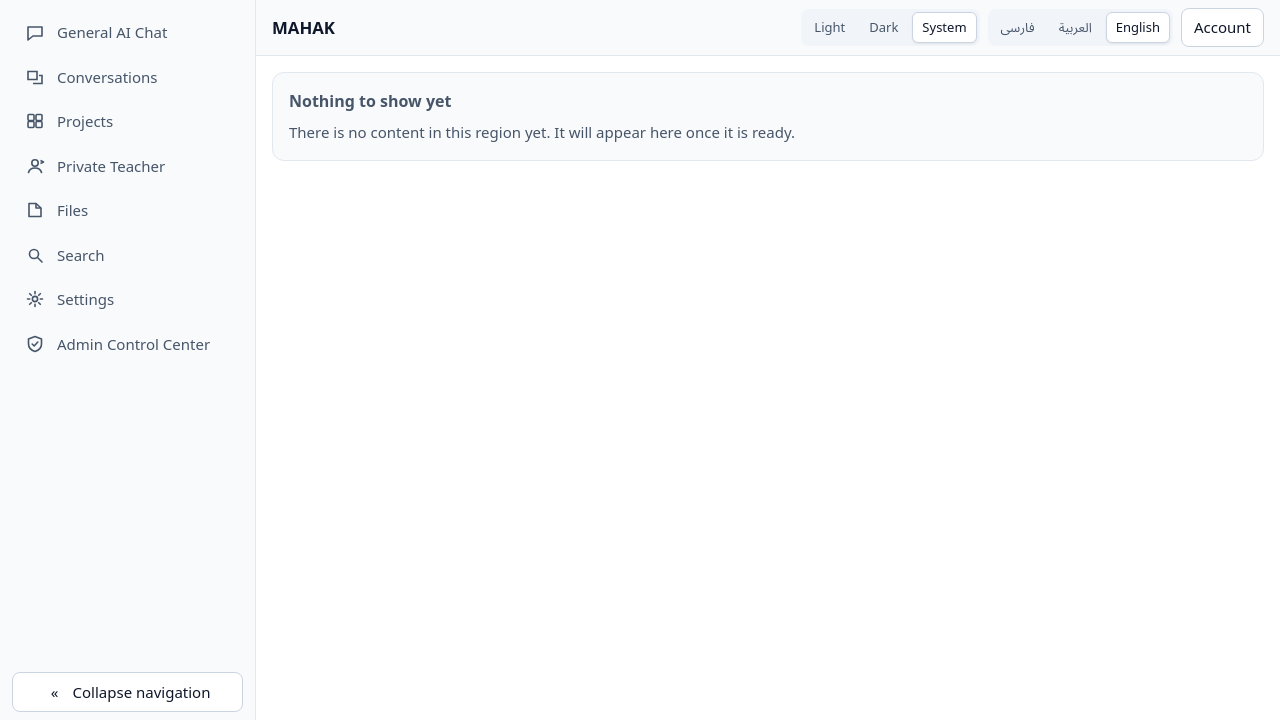
Test case: sidebar collapse and expand (FR-006, FR-007, NFR-003) › expanding returns full labels
Click the button with test id "sidebar-collapse-control" at x=128, y=692, box top-left (12, 672), bottom-right (243, 712)
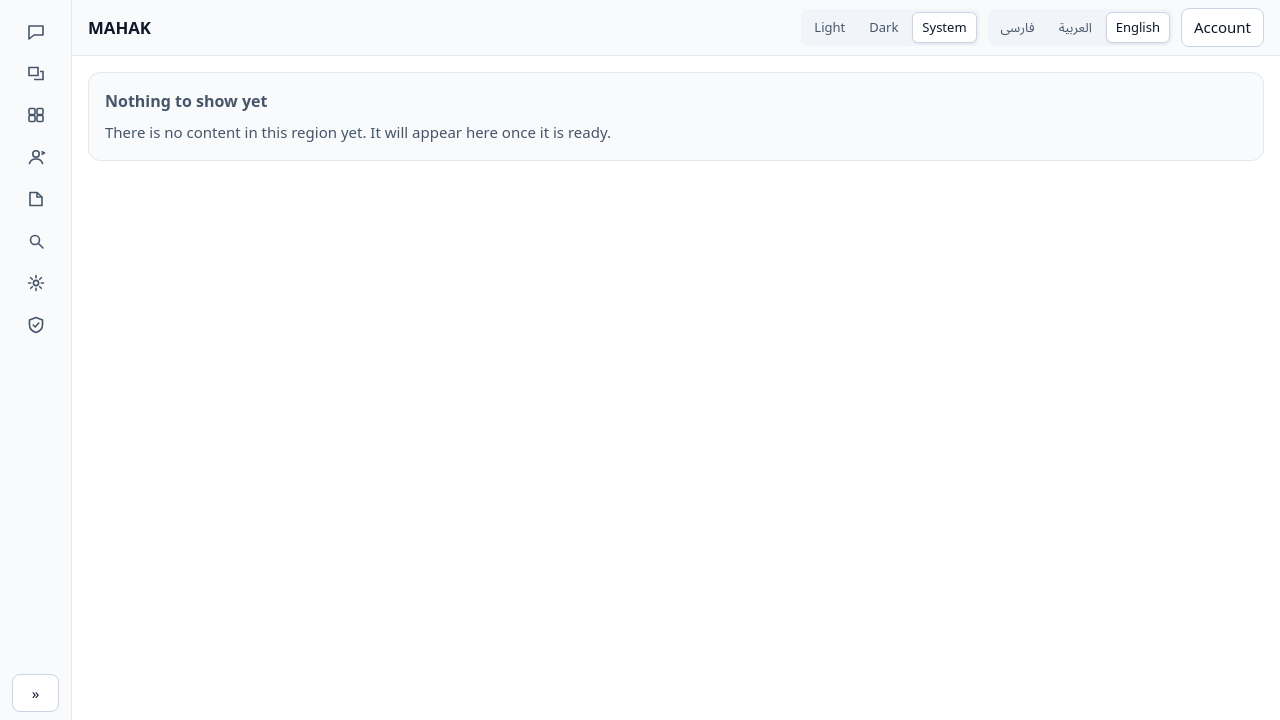
Check: the button with test id "sidebar-collapse-control" is collapsed
Click the button with test id "sidebar-collapse-control" at x=36, y=693, box top-left (12, 674), bottom-right (59, 712)
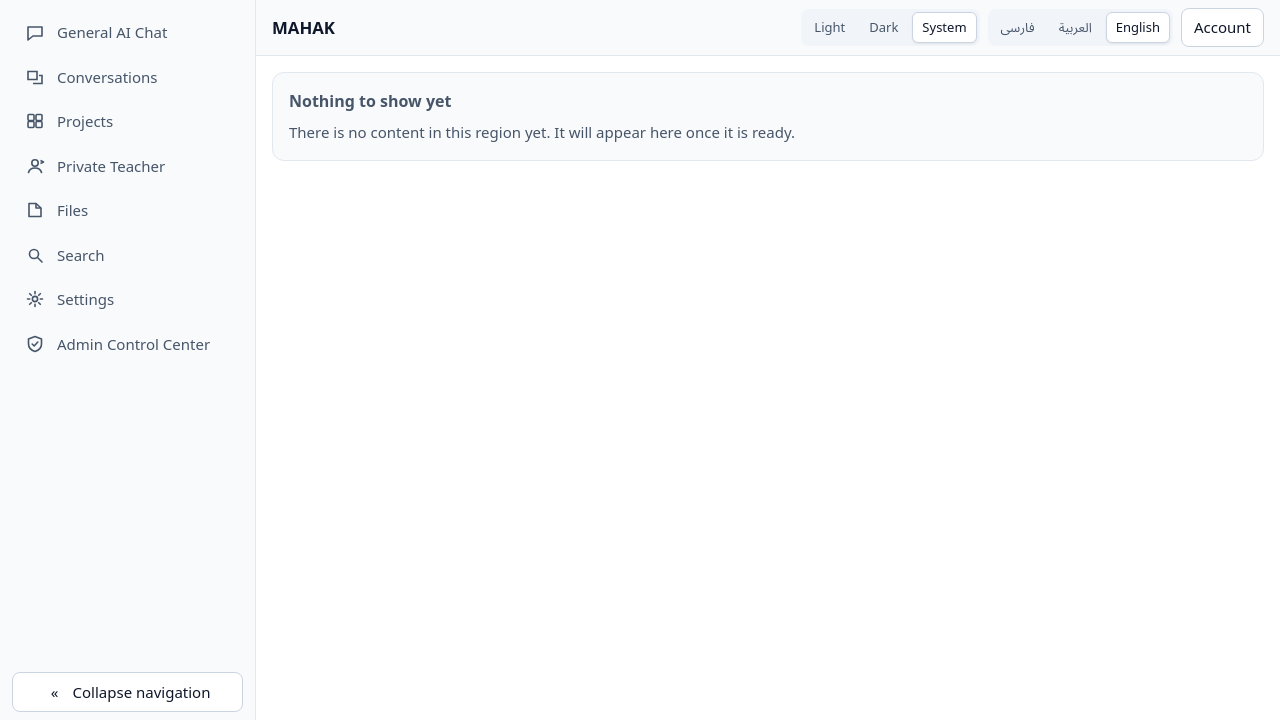
Check: the button with test id "sidebar-collapse-control" is expanded, box top-left (12, 672), bottom-right (243, 712)
